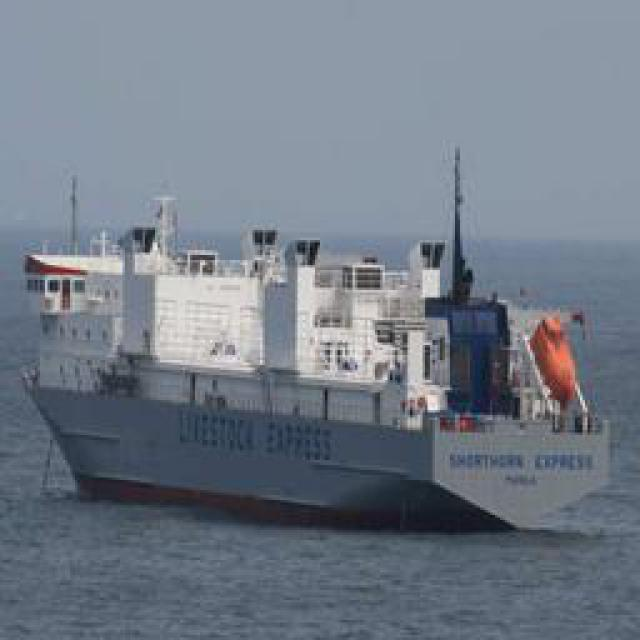Ship: (20, 149, 615, 539)
